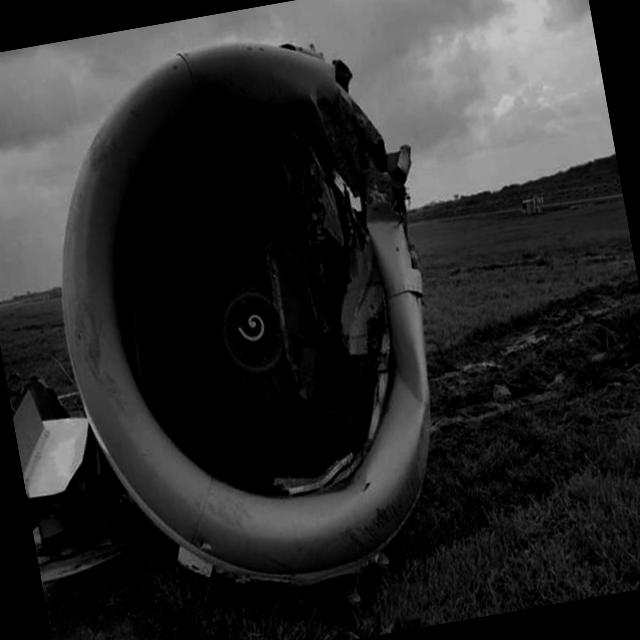dent: (369, 294, 455, 488), (366, 195, 414, 252)
